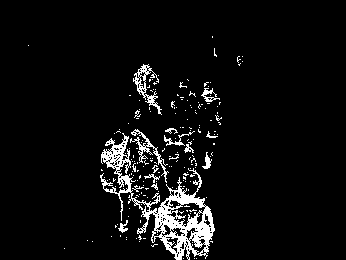person: (150, 170, 213, 260), (121, 129, 167, 240), (98, 129, 133, 236), (159, 127, 200, 194), (198, 80, 223, 170), (130, 63, 164, 119), (169, 77, 204, 122)
